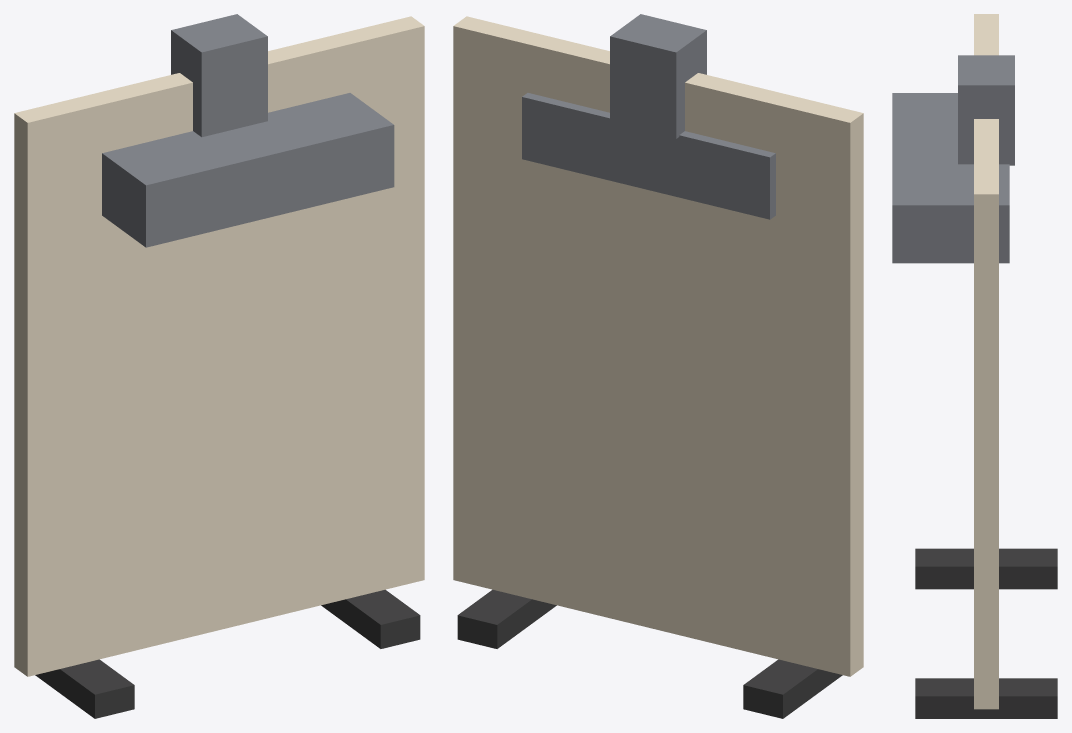
3 renders of one model, left to right at view 1: azimuth 30°, elevation 25°; view 2: azimuth 150°, elevation 25°; view 3: azimuth 270°, elevation 25°, orthographic. The views are drawn at different scales.
Parts seen in each view (by area): view 1: Panel, Range hood, Hood flue, Panel foot.001, Panel foot; view 2: Panel, Range hood, Hood flue, Panel foot.001, Panel foot; view 3: Panel, Range hood, Hood flue, Panel foot.001, Panel foot.
Part boxes in pixels (x1,y1,x2,y2): Panel: (14, 16, 424, 676); Range hood: (102, 93, 394, 247); Hood flue: (171, 14, 267, 137); Panel foot.001: (321, 589, 420, 648); Panel foot: (35, 659, 134, 718); Panel: (453, 16, 863, 676); Range hood: (522, 93, 775, 219); Hood flue: (610, 14, 706, 138); Panel foot.001: (457, 589, 556, 648); Panel foot: (743, 659, 842, 718); Panel: (974, 14, 998, 709); Range hood: (892, 93, 1009, 263); Hood flue: (958, 55, 1014, 165); Panel foot.001: (915, 678, 1057, 718); Panel foot: (915, 548, 1057, 589).
Size of the model in its own units: 120 by 179 by 46.5.
